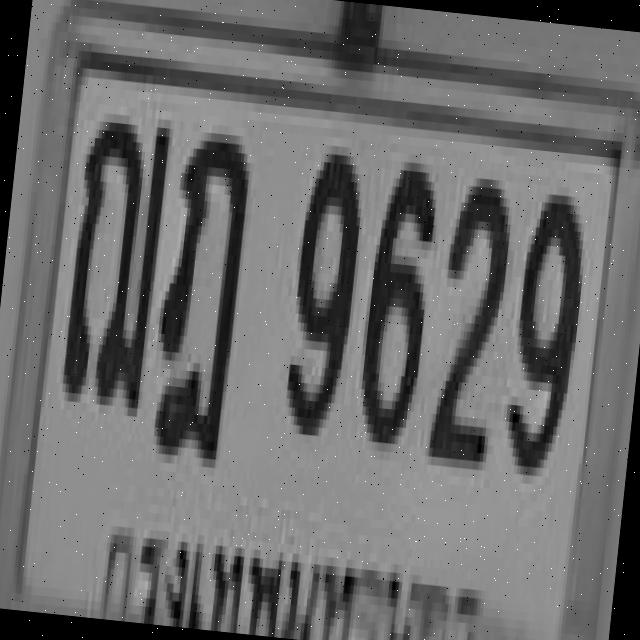2: (425, 167, 512, 461)
21ChorChoe: (56, 102, 173, 408)
23DorChaDa: (144, 120, 252, 460)
6: (352, 151, 440, 445)
9: (498, 183, 588, 470), (280, 143, 364, 429)
